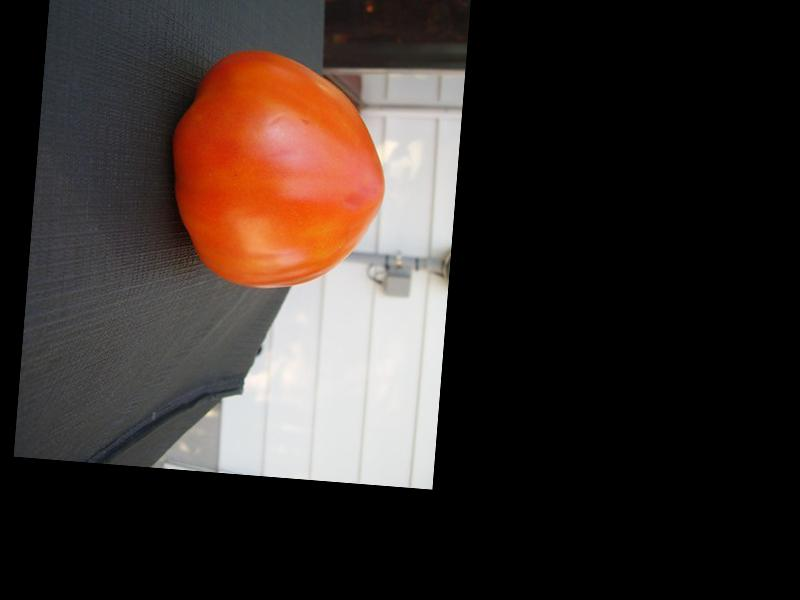Tomato: (164, 44, 396, 296)
